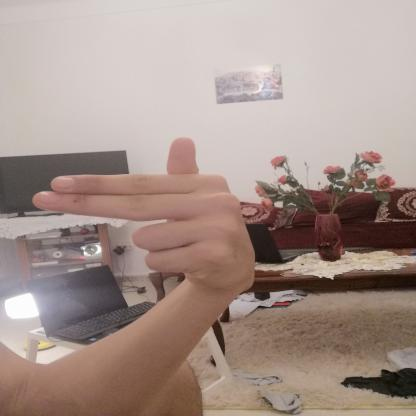GHAYN: (21, 128, 263, 303)
